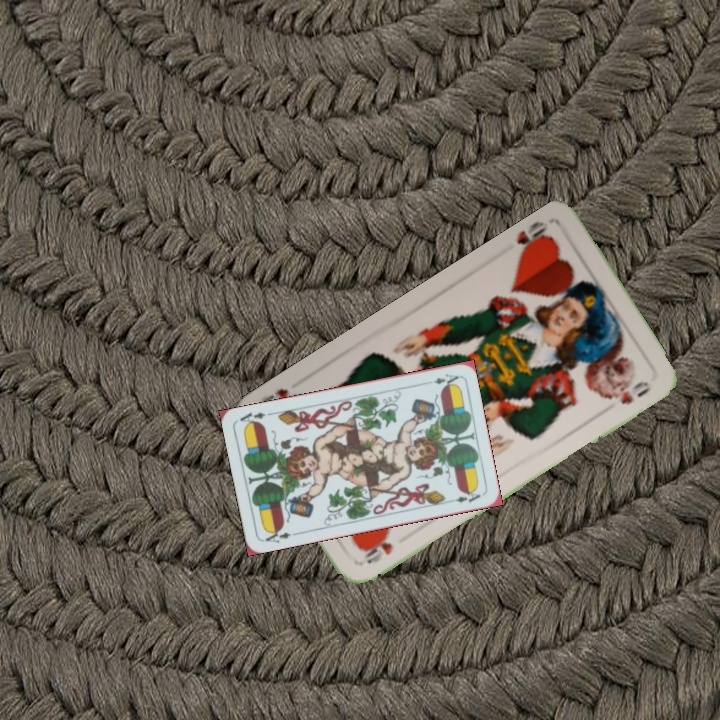EA: (260, 524, 293, 545), (430, 369, 461, 389)
HO: (512, 217, 555, 261), (358, 532, 396, 567)
